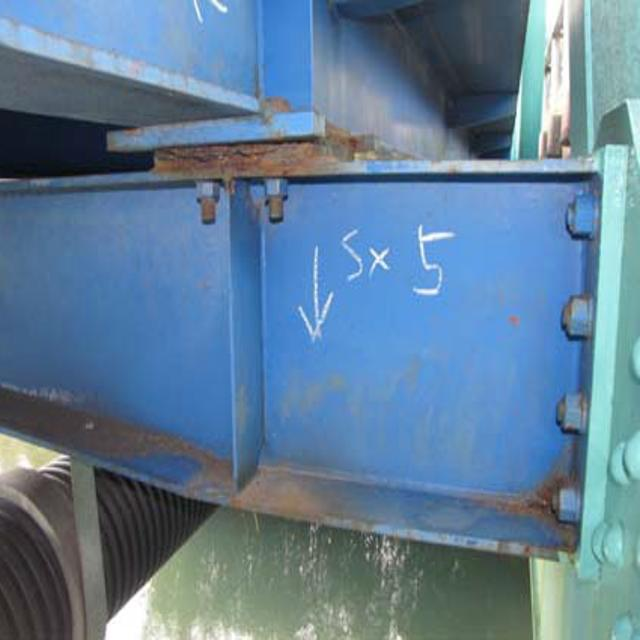corrosion: (150, 134, 350, 213), (481, 453, 586, 557)
